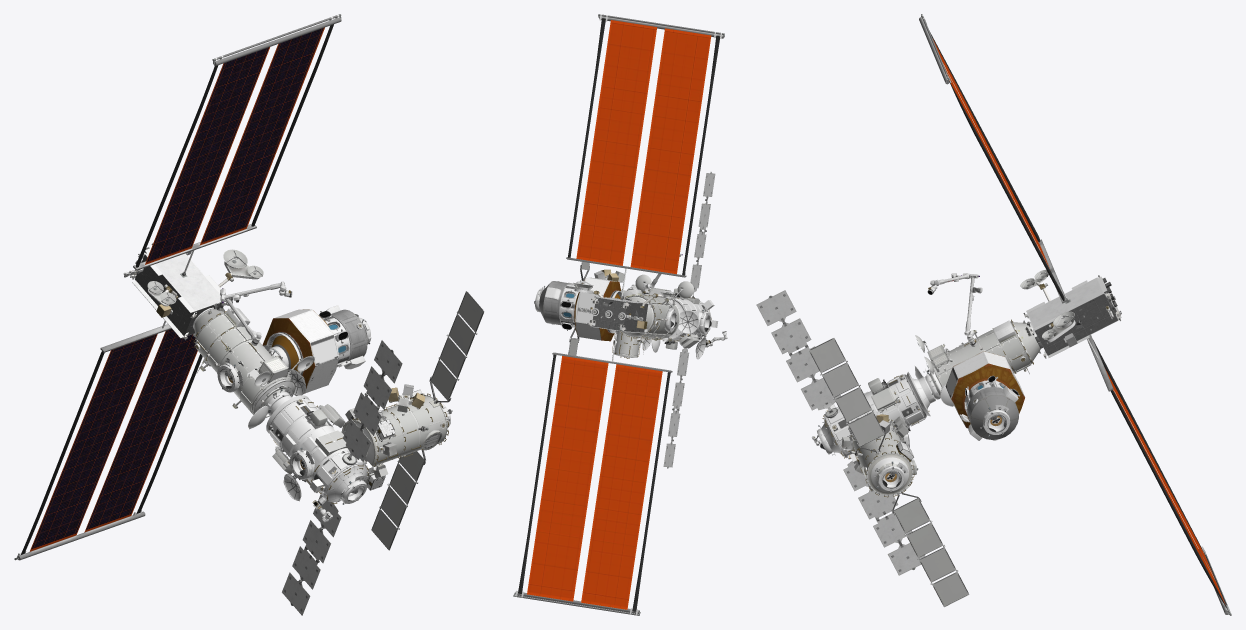
The model's file is gateway.glb.
The picture shows the model from 3 angles, left to right: view 1: azimuth 30°, elevation 25°; view 2: azimuth 150°, elevation 25°; view 3: azimuth 270°, elevation 25°; orthographic projection. The views are drawn at different scales.
Parts seen in each view (by area): view 1: Maxar_PPE Array, I-Hab, Airlock, NG_HALO.001, ERMXL_LoRes, Maxar_PPE.001, NDS port active, Big Arm_1; view 2: Maxar_PPE Array, I-Hab, ERMXL_LoRes, Maxar_PPE.001, NG_HALO.001, NDS port active, Airlock; view 3: Airlock, I-Hab, Maxar_PPE Array, Maxar_PPE.001, ERMXL_LoRes, NG_HALO.001, NDS port active, Big Arm_1.
Boxes of the visible parts, x1,y1,x2,y2 form: Maxar_PPE Array: [14, 14, 341, 560]; I-Hab: [266, 340, 402, 615]; Airlock: [341, 291, 484, 550]; NG_HALO.001: [193, 307, 314, 417]; ERMXL_LoRes: [262, 305, 367, 393]; Maxar_PPE.001: [123, 243, 263, 340]; NDS port active: [217, 314, 450, 504]; Big Arm_1: [220, 281, 332, 522]; Maxar_PPE Array: [513, 14, 724, 615]; I-Hab: [662, 172, 718, 468]; ERMXL_LoRes: [539, 277, 624, 341]; Maxar_PPE.001: [573, 281, 675, 333]; NG_HALO.001: [620, 274, 693, 354]; NDS port active: [534, 286, 711, 359]; Airlock: [568, 262, 650, 358]; Airlock: [809, 338, 969, 607]; I-Hab: [756, 290, 930, 575]; Maxar_PPE Array: [919, 14, 1231, 615]; Maxar_PPE.001: [1020, 269, 1121, 358]; ERMXL_LoRes: [945, 351, 1025, 440]; NG_HALO.001: [915, 319, 1040, 396]; NDS port active: [816, 342, 1010, 491]; Big Arm_1: [811, 273, 982, 448].
Size of the model in its own units: 17.88 by 38.97 by 30.07.
Materials: 12 (12 with a texture image).
